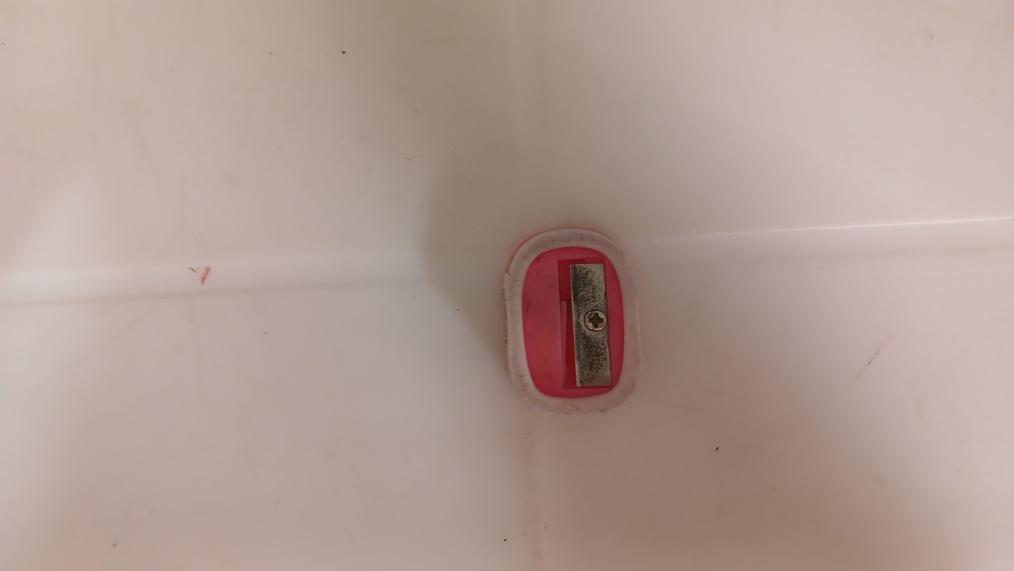Sharpener: (507, 231, 642, 417)
